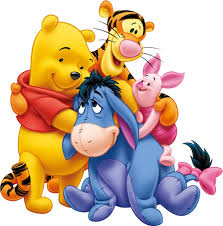Winnie: (25, 15, 94, 122)
